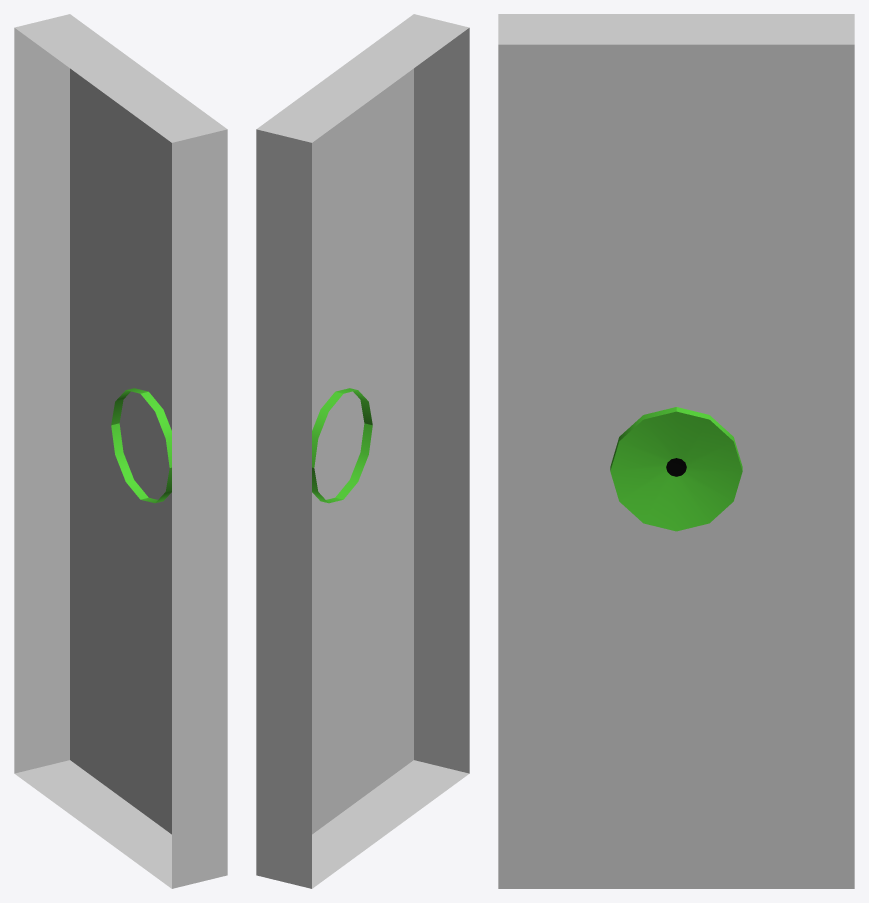
File: patro1-chodbaKratka-vytah-tlacitko.fbx
3 renders of one model, left to right at view 1: azimuth 30°, elevation 25°; view 2: azimuth 150°, elevation 25°; view 3: azimuth 270°, elevation 25°, orthographic. The views are drawn at different scales.
Visible parts, largest first — view 1: Vytah.Tlacitko.Base, Vytah.Tlacitko.Button; view 2: Vytah.Tlacitko.Base, Vytah.Tlacitko.Button; view 3: Vytah.Tlacitko.Base, Vytah.Tlacitko.Button.
Boxes of the visible parts, box(x1,y1,x2,y2) form: Vytah.Tlacitko.Base: box(14, 14, 227, 888); Vytah.Tlacitko.Button: box(111, 388, 171, 503); Vytah.Tlacitko.Base: box(256, 14, 469, 888); Vytah.Tlacitko.Button: box(312, 388, 372, 503); Vytah.Tlacitko.Base: box(498, 14, 854, 888); Vytah.Tlacitko.Button: box(610, 407, 742, 531).
Size of the model in its own units: 1.9 by 21.12 by 8.09.
